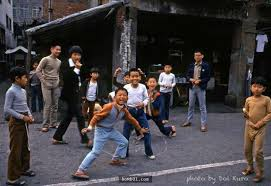people: (78, 91, 128, 176), (5, 67, 34, 186), (59, 42, 91, 145), (121, 69, 157, 160), (239, 76, 270, 181), (142, 77, 176, 134), (186, 50, 210, 130), (40, 42, 59, 131), (159, 65, 176, 124), (84, 66, 100, 115)
